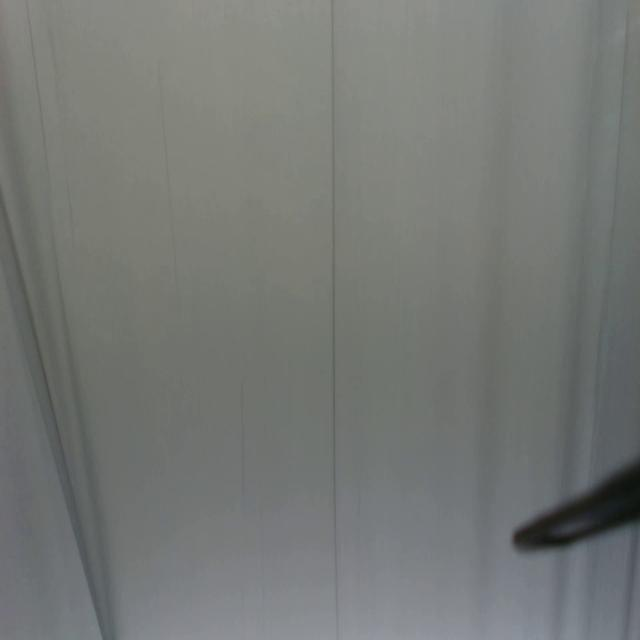crease: (0, 186, 110, 640), (326, 0, 346, 640), (155, 61, 182, 302), (608, 8, 631, 286), (25, 0, 48, 153), (236, 377, 252, 538)
